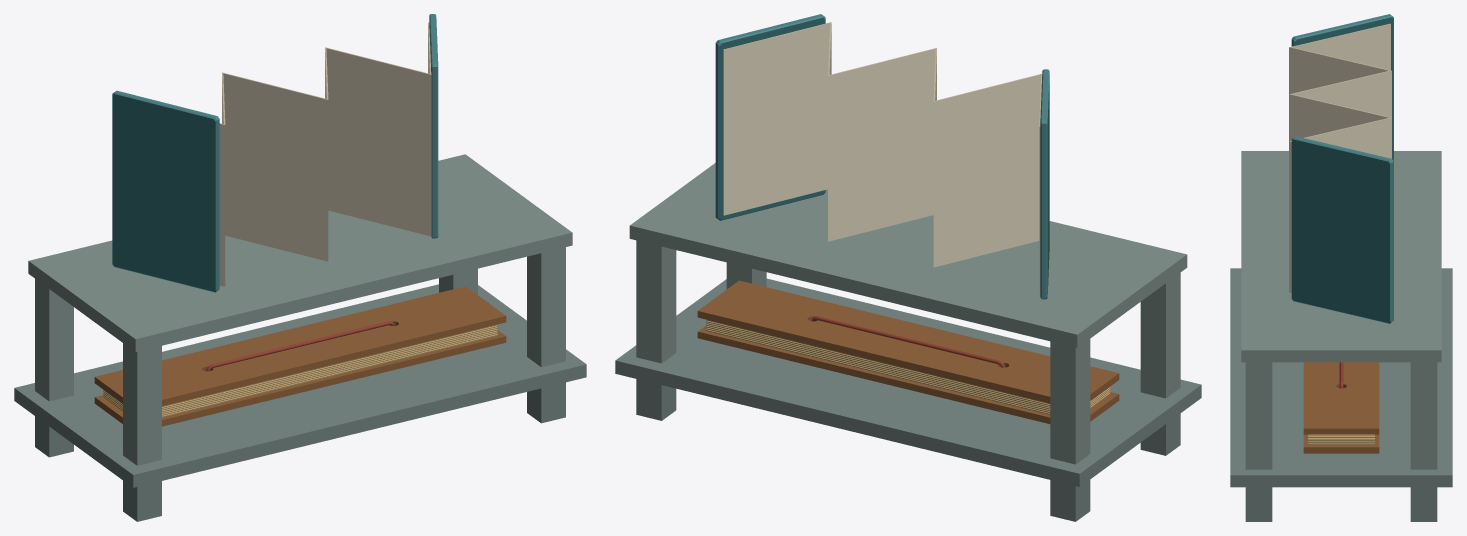
3 views of the same model, side by side, from view 1: azimuth 30°, elevation 25°; view 2: azimuth 150°, elevation 25°; view 3: azimuth 270°, elevation 25° (orthographic). The views are drawn at different scales.
Parts seen in each view (by area): view 1: SCENE_ONLY__OpenTwoShelfRack, concertina__WholeContinuousSixPanelConcertinaLeaf, concertina__WholeFrontPlainEndBoard, pothi__WholeUpperTwinPiercedPlainBoard, pothi__WholeLowerTwinPiercedPlainBoard, concertina__WholeRearPlainEndBoard, pothi__WholeBlankTwinPiercedFolio_00, pothi__WholeBlankTwinPiercedFolio_01, pothi__WholeBlankTwinPiercedFolio_03, pothi__WholeBlankTwinPiercedFolio_02, pothi__WholeClosedThroughHoleAndReturningCord, pothi__WholeBlankTwinPiercedFolio_04 (+1 smaller); view 2: SCENE_ONLY__OpenTwoShelfRack, concertina__WholeContinuousSixPanelConcertinaLeaf, pothi__WholeUpperTwinPiercedPlainBoard, pothi__WholeLowerTwinPiercedPlainBoard, concertina__WholeRearPlainEndBoard, concertina__WholeFrontPlainEndBoard, pothi__WholeBlankTwinPiercedFolio_02, pothi__WholeBlankTwinPiercedFolio_03, pothi__WholeBlankTwinPiercedFolio_00, pothi__WholeClosedThroughHoleAndReturningCord, pothi__WholeBlankTwinPiercedFolio_01, pothi__WholeBlankTwinPiercedFolio_04 (+1 smaller); view 3: SCENE_ONLY__OpenTwoShelfRack, concertina__WholeRearPlainEndBoard, concertina__WholeContinuousSixPanelConcertinaLeaf, pothi__WholeUpperTwinPiercedPlainBoard, concertina__WholeFrontPlainEndBoard, pothi__WholeLowerTwinPiercedPlainBoard.
Part boxes in pixels (bbox=[...]): SCENE_ONLY__OpenTwoShelfRack: bbox=[14, 154, 586, 521]; concertina__WholeContinuousSixPanelConcertinaLeaf: bbox=[219, 22, 431, 286]; concertina__WholeFrontPlainEndBoard: bbox=[112, 90, 219, 292]; pothi__WholeUpperTwinPiercedPlainBoard: bbox=[94, 286, 506, 406]; pothi__WholeLowerTwinPiercedPlainBoard: bbox=[94, 330, 506, 426]; concertina__WholeRearPlainEndBoard: bbox=[429, 14, 438, 238]; pothi__WholeBlankTwinPiercedFolio_00: bbox=[103, 334, 497, 417]; pothi__WholeBlankTwinPiercedFolio_01: bbox=[103, 332, 497, 415]; pothi__WholeBlankTwinPiercedFolio_03: bbox=[103, 329, 497, 412]; pothi__WholeBlankTwinPiercedFolio_02: bbox=[103, 331, 497, 413]; pothi__WholeClosedThroughHoleAndReturningCord: bbox=[206, 321, 394, 371]; pothi__WholeBlankTwinPiercedFolio_04: bbox=[103, 327, 497, 410]; SCENE_ONLY__OpenTwoShelfRack: bbox=[615, 163, 1201, 521]; concertina__WholeContinuousSixPanelConcertinaLeaf: bbox=[723, 22, 1042, 292]; pothi__WholeUpperTwinPiercedPlainBoard: bbox=[697, 280, 1119, 403]; pothi__WholeLowerTwinPiercedPlainBoard: bbox=[697, 325, 1119, 423]; concertina__WholeRearPlainEndBoard: bbox=[715, 14, 825, 220]; concertina__WholeFrontPlainEndBoard: bbox=[1040, 69, 1049, 299]; pothi__WholeBlankTwinPiercedFolio_02: bbox=[706, 326, 1110, 411]; pothi__WholeBlankTwinPiercedFolio_03: bbox=[706, 324, 1110, 409]; pothi__WholeBlankTwinPiercedFolio_00: bbox=[706, 329, 1110, 414]; pothi__WholeClosedThroughHoleAndReturningCord: bbox=[812, 316, 1005, 367]; pothi__WholeBlankTwinPiercedFolio_01: bbox=[706, 328, 1110, 412]; pothi__WholeBlankTwinPiercedFolio_04: bbox=[706, 322, 1110, 407]; SCENE_ONLY__OpenTwoShelfRack: bbox=[1230, 151, 1452, 521]; concertina__WholeRearPlainEndBoard: bbox=[1291, 136, 1393, 323]; concertina__WholeContinuousSixPanelConcertinaLeaf: bbox=[1289, 23, 1391, 292]; pothi__WholeUpperTwinPiercedPlainBoard: bbox=[1303, 362, 1379, 434]; concertina__WholeFrontPlainEndBoard: bbox=[1291, 14, 1393, 160]; pothi__WholeLowerTwinPiercedPlainBoard: bbox=[1303, 434, 1379, 453].
Bounding box in the file's own units: 0.44 × 0.334 × 0.2.
